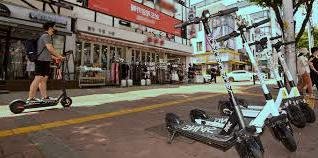nonhelmet: (7, 19, 77, 116)
